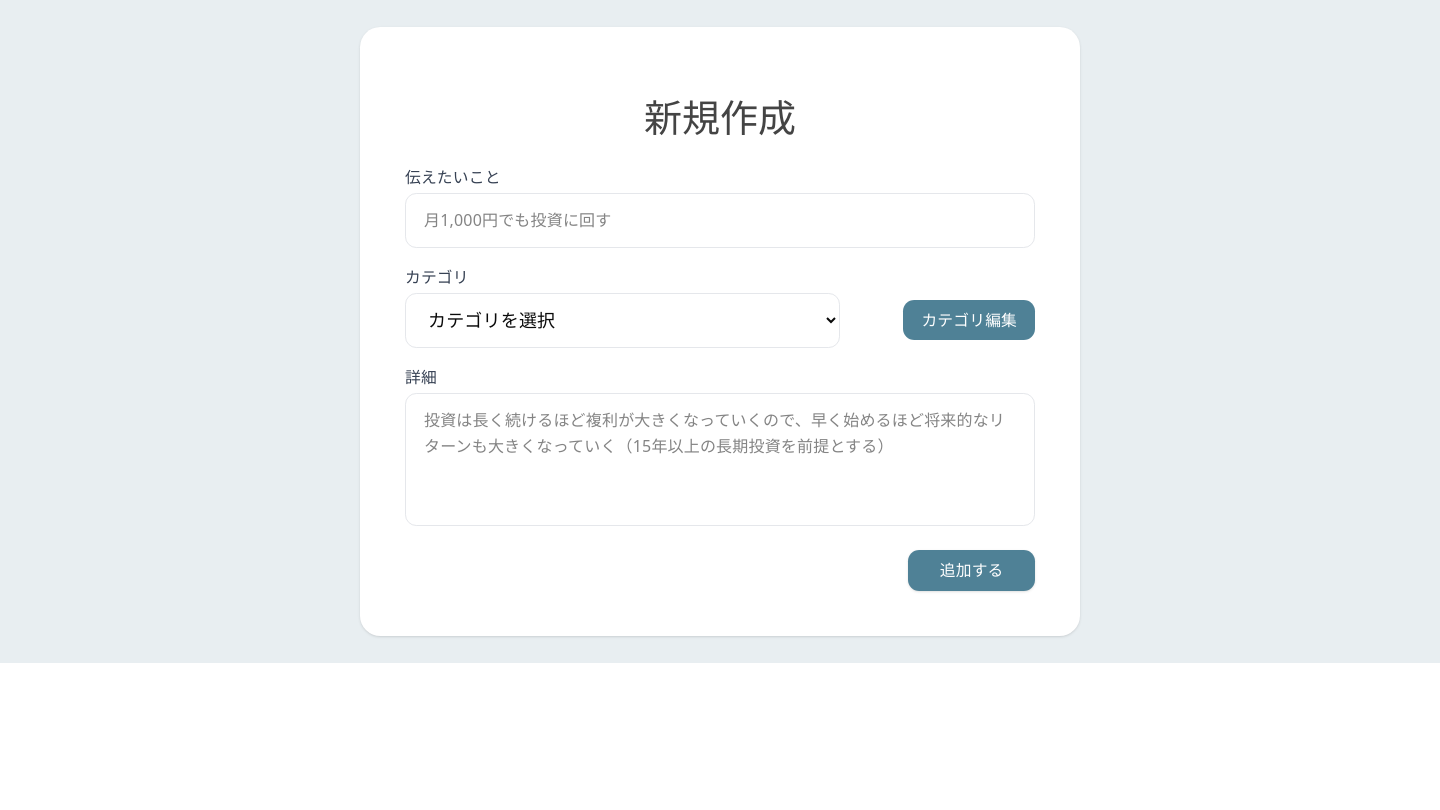
Test: PostNew › タイトルが空の場合エラーメッセージが表示される
This screenshot has width=1440, height=810.
Click the button "追加する" at (972, 570), box x1=908 y1=550 x2=1035 y2=591
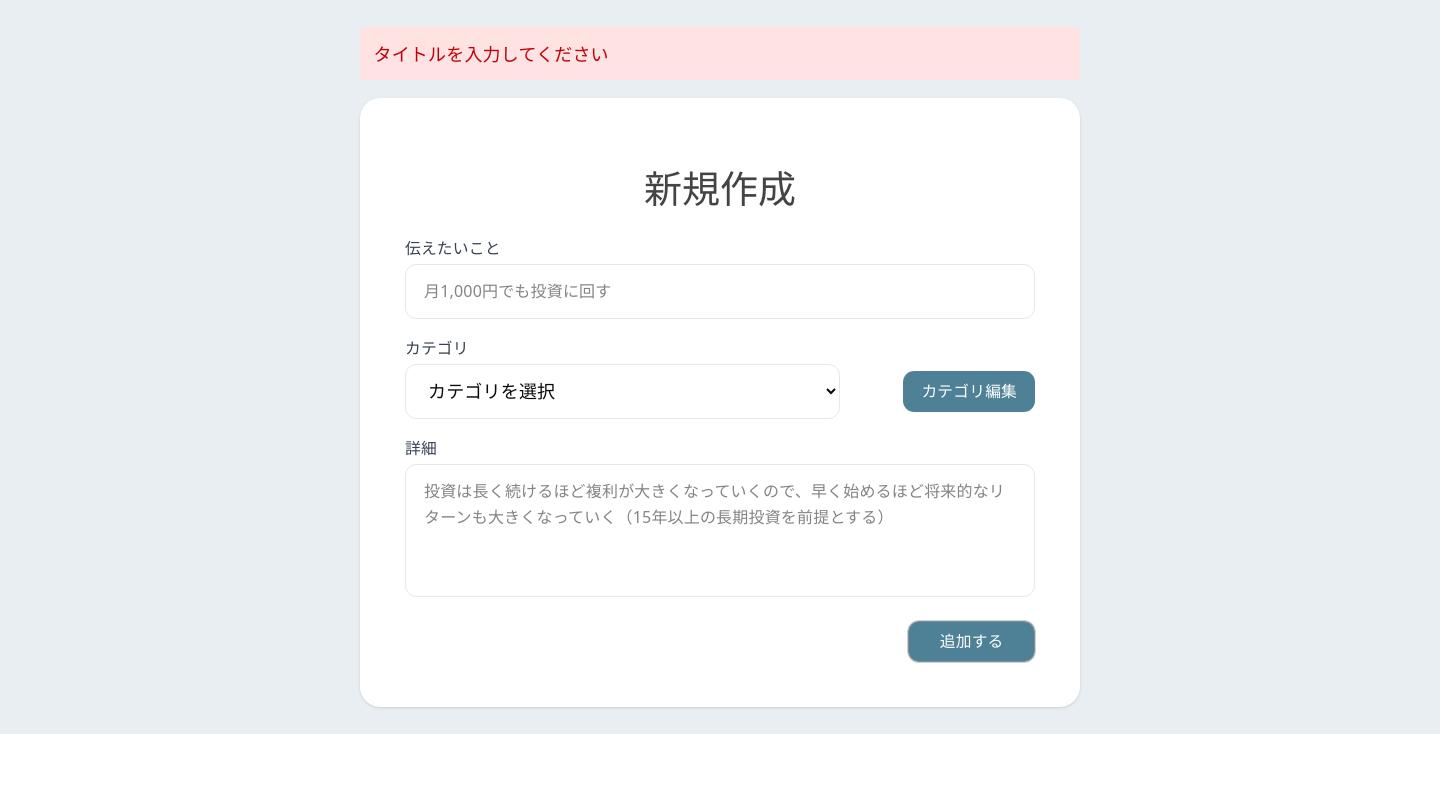
Expected: the text "タイトルを入力してください" is shown, x1=360 y1=27 x2=1080 y2=80
